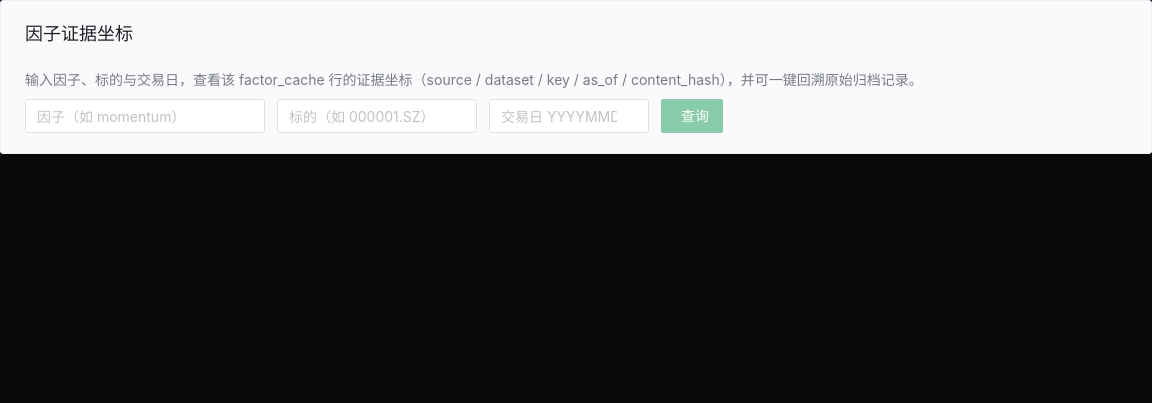
Scenario: FactorCitation › flags a hash-only tuple as 未归档 without inventing the missing fields
The width and height of the screenshot is (1152, 403).
Type "momentum" into the field with placeholder "因子（如 momentum）" at (135, 116), box top-left (37, 99), bottom-right (233, 133)
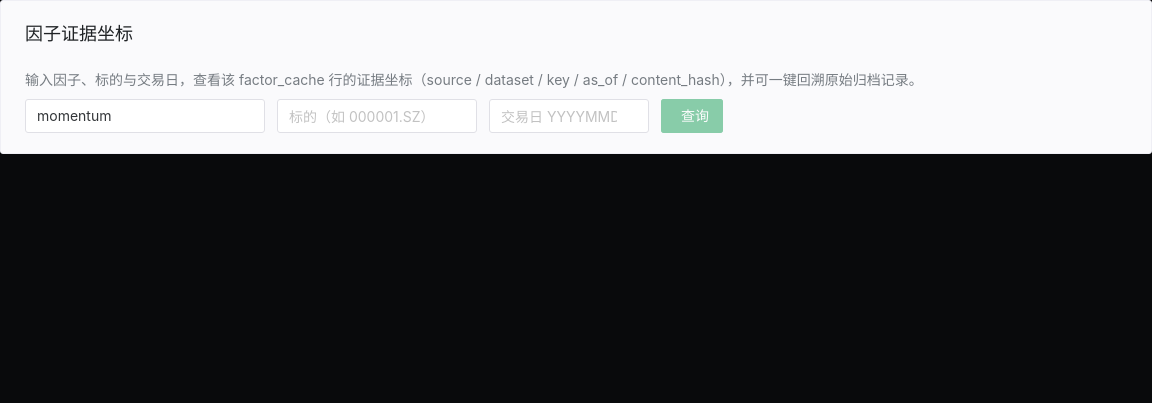
Type "000001.SZ" into the field with placeholder "标的（如 000001.SZ）" at (367, 116), box top-left (289, 99), bottom-right (445, 133)
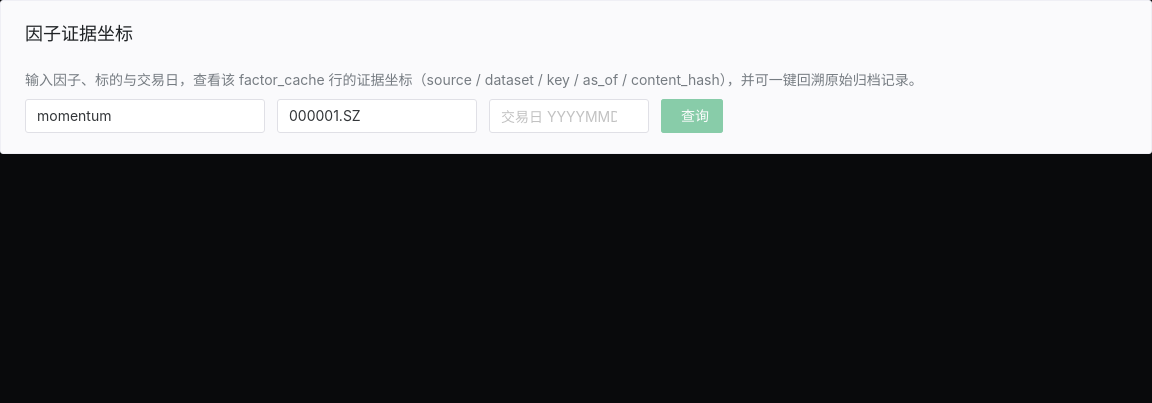
Type "20260105" into the field with placeholder "交易日 YYYYMMDD" at (559, 116), box top-left (501, 99), bottom-right (617, 133)
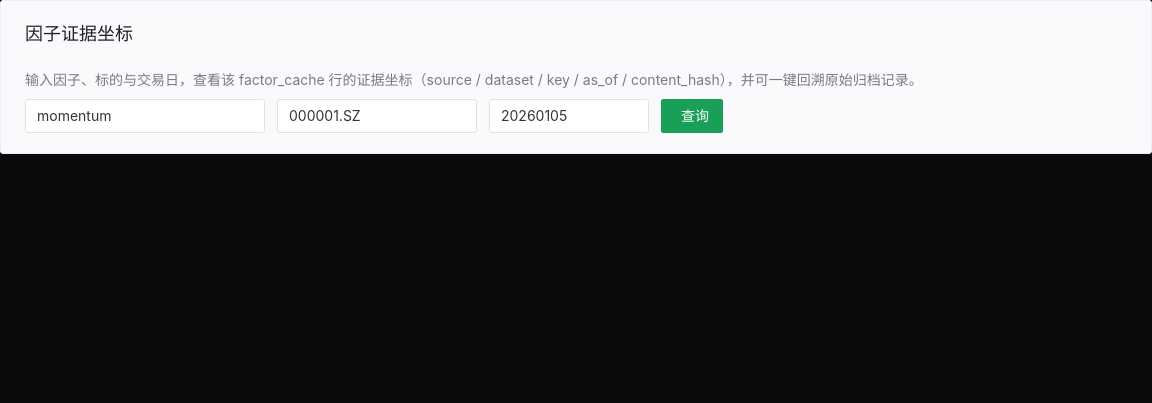
Click the button "查询" at (692, 116), box top-left (661, 99), bottom-right (723, 133)
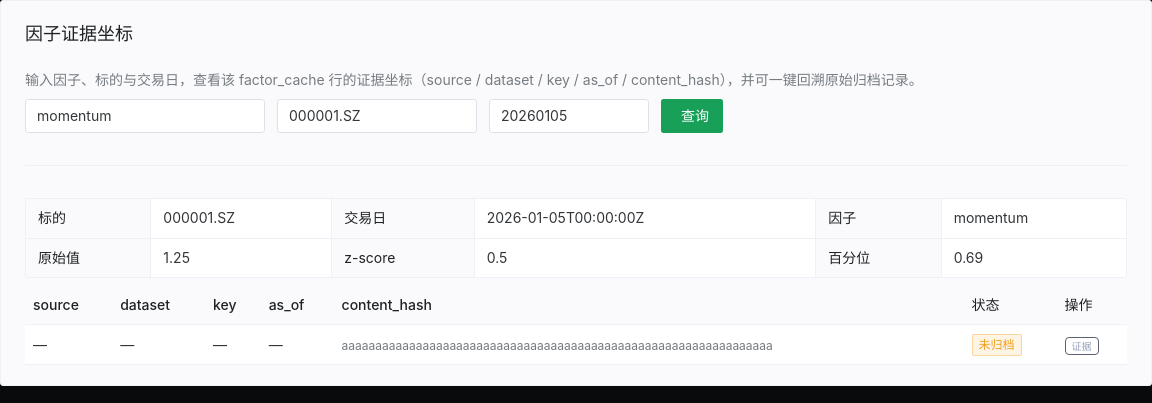
Expected: the text "未归档" is shown, top-left (978, 339), bottom-right (1014, 351)
